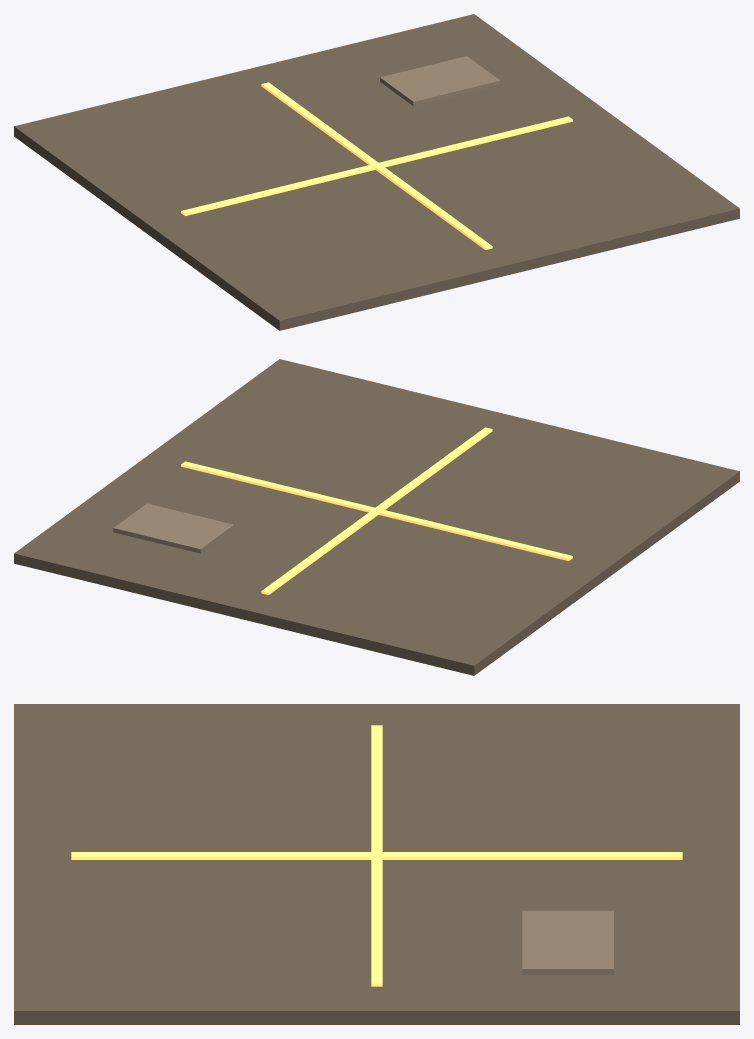
File: refinery-floor-panel-lod1.glb
3 renders of one model, top to bottom at view 1: azimuth 30°, elevation 25°; view 2: azimuth 150°, elevation 25°; view 3: azimuth 270°, elevation 25°, orthographic. The views are drawn at different scales.
Visible parts, largest first — view 1: refinery-floor-panel, refinery-floor-service-plate, refinery-floor-seam, refinery-floor-cross-seam; view 2: refinery-floor-panel, refinery-floor-service-plate, refinery-floor-seam, refinery-floor-cross-seam; view 3: refinery-floor-panel, refinery-floor-service-plate, refinery-floor-cross-seam, refinery-floor-seam.
Part boxes in pixels (left/top/right/bottom): refinery-floor-panel: left=14, top=14, right=739, bottom=330; refinery-floor-service-plate: left=380, top=56, right=500, bottom=106; refinery-floor-seam: left=181, top=116, right=572, bottom=215; refinery-floor-cross-seam: left=261, top=82, right=492, bottom=249; refinery-floor-panel: left=14, top=359, right=739, bottom=675; refinery-floor-service-plate: left=113, top=503, right=234, bottom=553; refinery-floor-seam: left=181, top=461, right=572, bottom=560; refinery-floor-cross-seam: left=261, top=427, right=492, bottom=594; refinery-floor-panel: left=14, top=704, right=739, bottom=1024; refinery-floor-service-plate: left=522, top=910, right=613, bottom=974; refinery-floor-cross-seam: left=71, top=852, right=682, bottom=859; refinery-floor-seam: left=371, top=725, right=382, bottom=986.
Size of the model in its own units: 3.8 by 0.1175 by 3.8.
